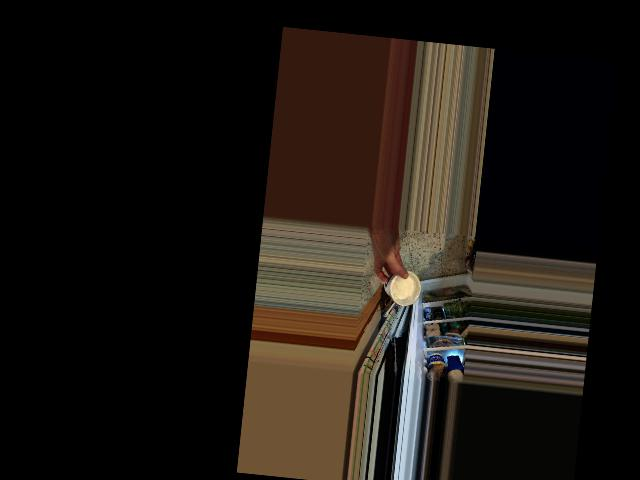cotage: (378, 270, 419, 307)
